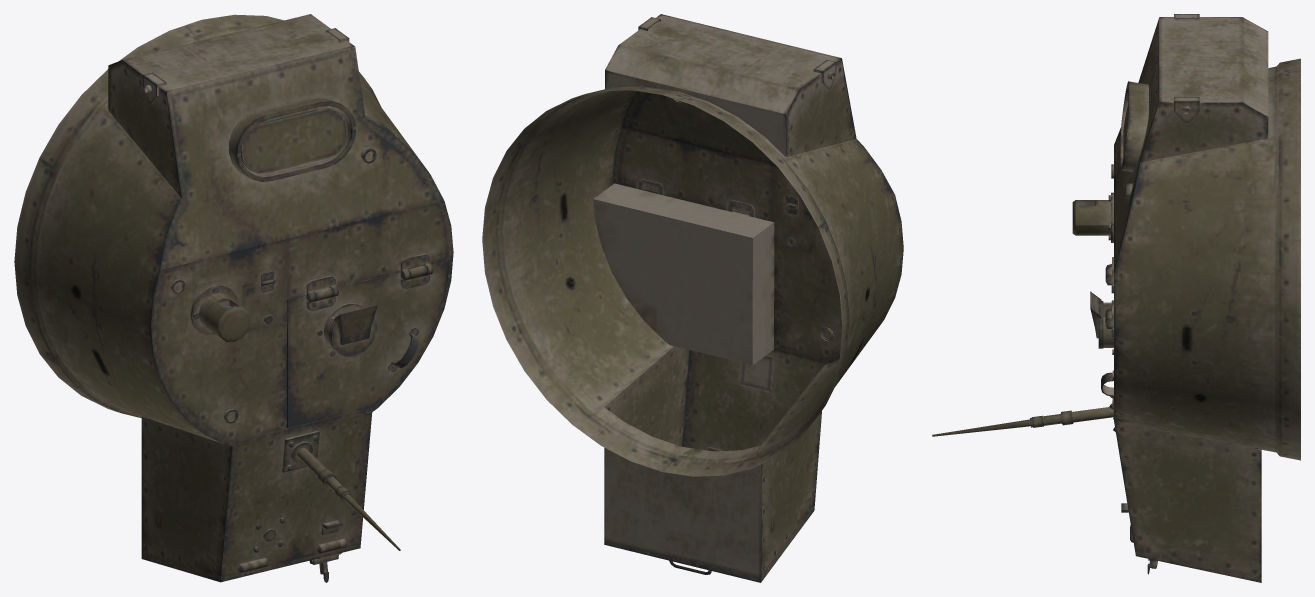
The model's file is Turret_01.glb.
3 views of the same model, side by side, from view 1: azimuth 30°, elevation 25°; view 2: azimuth 150°, elevation 25°; view 3: azimuth 270°, elevation 25° (orthographic). The views are drawn at different scales.
Visible parts, largest first — view 1: set_0_group_0; view 2: set_0_group_0; view 3: set_0_group_0.
Boxes of the visible parts, box(x1,y1,x2,y2) form: set_0_group_0: box(14, 14, 453, 582); set_0_group_0: box(482, 14, 903, 582); set_0_group_0: box(932, 14, 1300, 582).
Bounding box in the file's own units: 1.41 × 1.9 × 1.28.
1 material, 1 textured.
